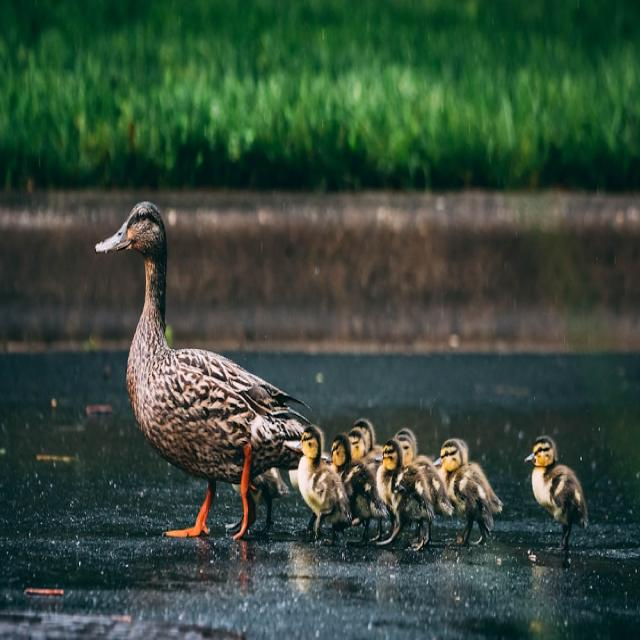ducks: (68, 184, 299, 561), (509, 432, 594, 546), (318, 409, 372, 565), (290, 392, 334, 553), (428, 434, 485, 546), (371, 438, 431, 544)
